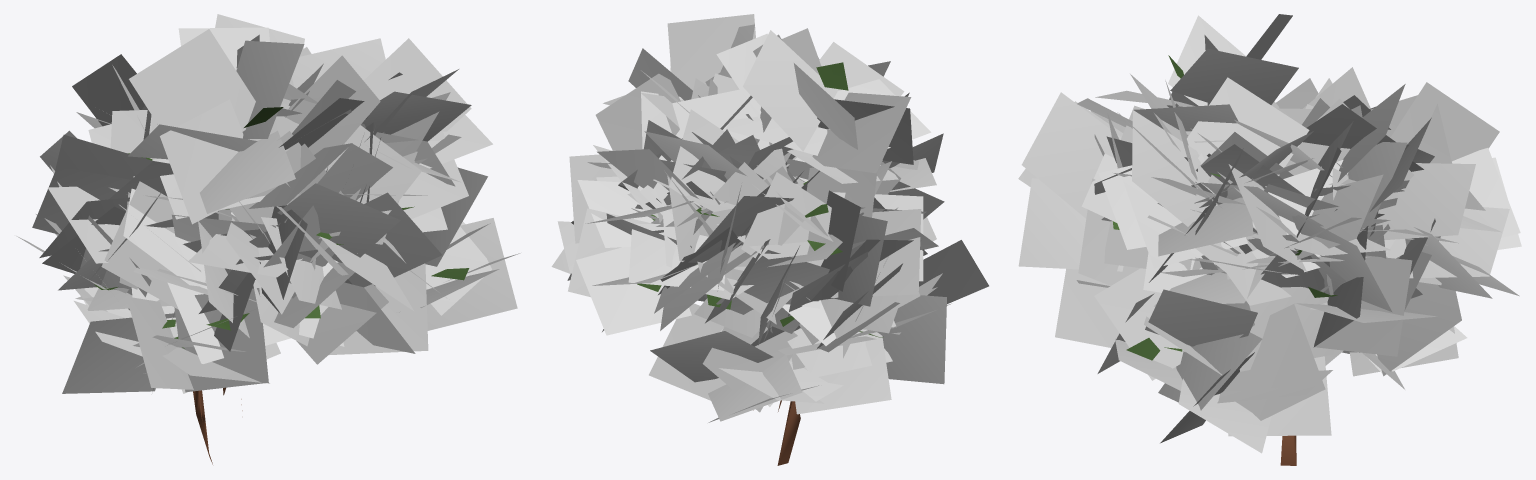
Rendered from Fond_Arbousier_0.fbx.
The picture shows the model from 3 angles, left to right: view 1: azimuth 30°, elevation 25°; view 2: azimuth 150°, elevation 25°; view 3: azimuth 270°, elevation 25°; orthographic projection. The views are drawn at different scales.
Parts seen in each view (by area): view 1: Fond_Arbousier_0; view 2: Fond_Arbousier_0; view 3: Fond_Arbousier_0.
Boxes of the visible parts, bbox=[...] form: Fond_Arbousier_0: bbox=[16, 14, 520, 464]; Fond_Arbousier_0: bbox=[551, 14, 988, 465]; Fond_Arbousier_0: bbox=[1018, 14, 1521, 465].
Bounding box in the file's own units: 418 × 409 × 416.
